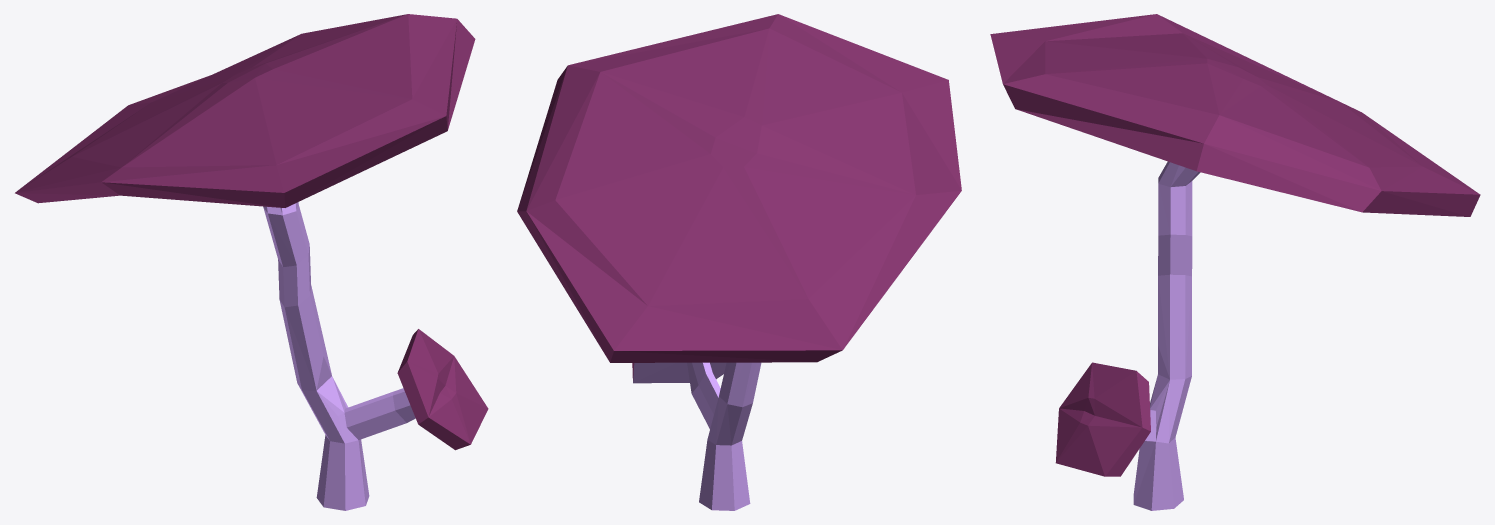
Rendered from Fungus2.fbx.
3 renders of one model, left to right at view 1: azimuth 30°, elevation 25°; view 2: azimuth 150°, elevation 25°; view 3: azimuth 270°, elevation 25°, orthographic. The views are drawn at different scales.
Parts seen in each view (by area): view 1: Cylinder; view 2: Cylinder; view 3: Cylinder.
Part boxes in pixels (<box>): Cylinder: <box>15,14,488,510</box>; Cylinder: <box>517,14,961,510</box>; Cylinder: <box>990,14,1480,510</box>.
Size of the model in its own units: 370 by 394 by 405.
